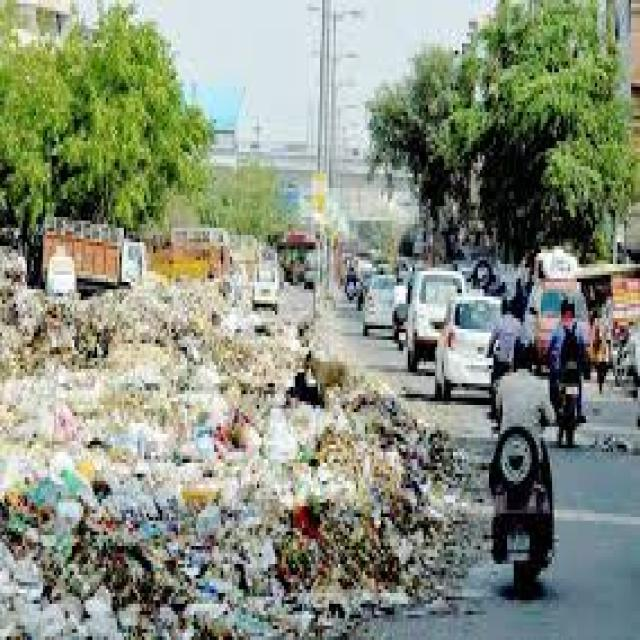garbage: (8, 292, 445, 633), (5, 297, 443, 625)
